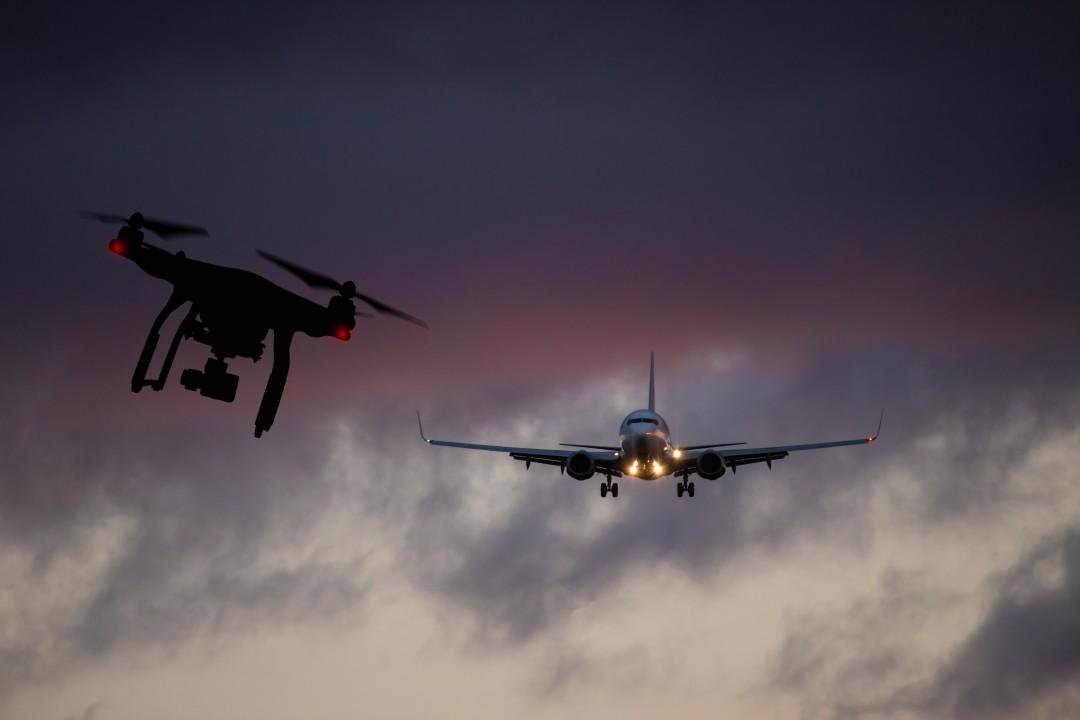drone_other: (70, 202, 428, 442)
